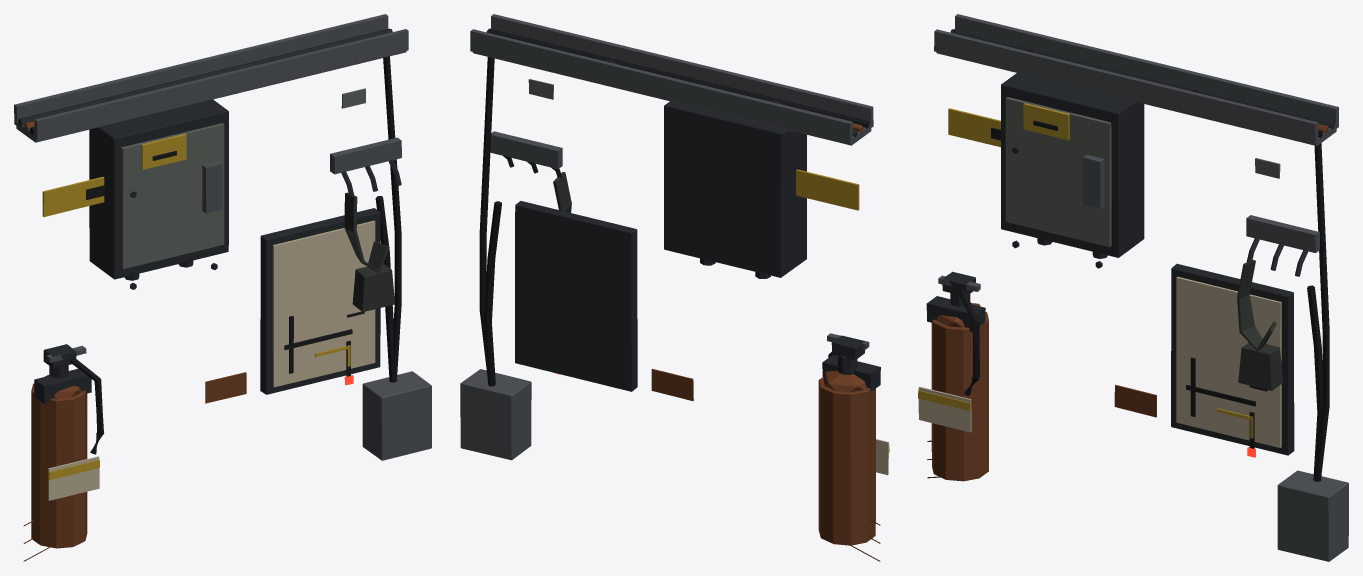
The model's file is airlock_wall_details.glb.
3 renders of one model, left to right at view 1: azimuth 30°, elevation 25°; view 2: azimuth 150°, elevation 25°; view 3: azimuth 330°, elevation 25°, orthographic. The views are drawn at different scales.
Visible parts, largest first — view 1: airlock_wall_details; view 2: airlock_wall_details; view 3: airlock_wall_details.
Boxes of the visible parts, x1,y1,x2,y2 form: airlock_wall_details: (14,14,431,561); airlock_wall_details: (460,14,889,561); airlock_wall_details: (918,14,1348,561).
Bounding box in the file's own units: 1.19 × 1.25 × 0.1931.
